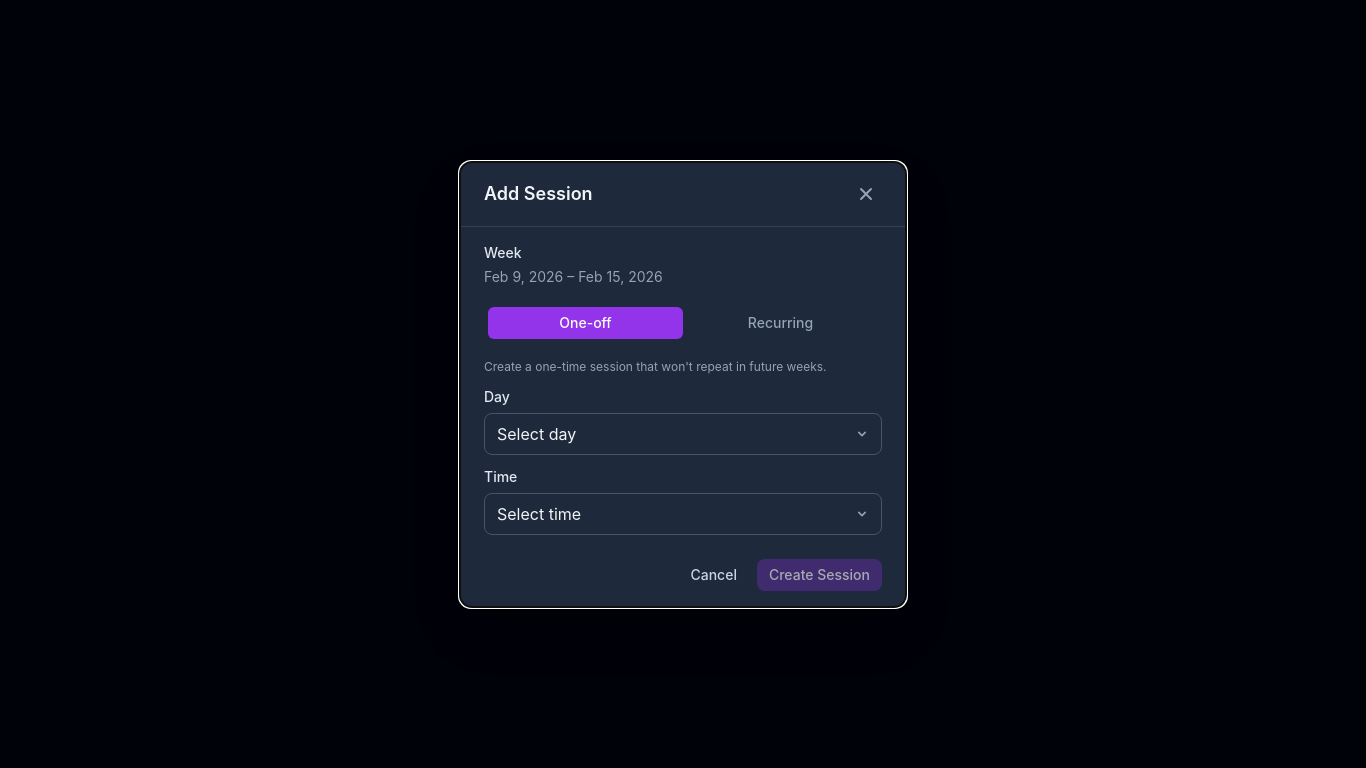
it: CreateSessionModal › Tab switching › switching from one-off to recurring resets form selections
// Select day and hour on one-off tab
Select "Monday" in the dropdown labelled "Day": {"x": 683, "y": 434} [484,412,882,454]
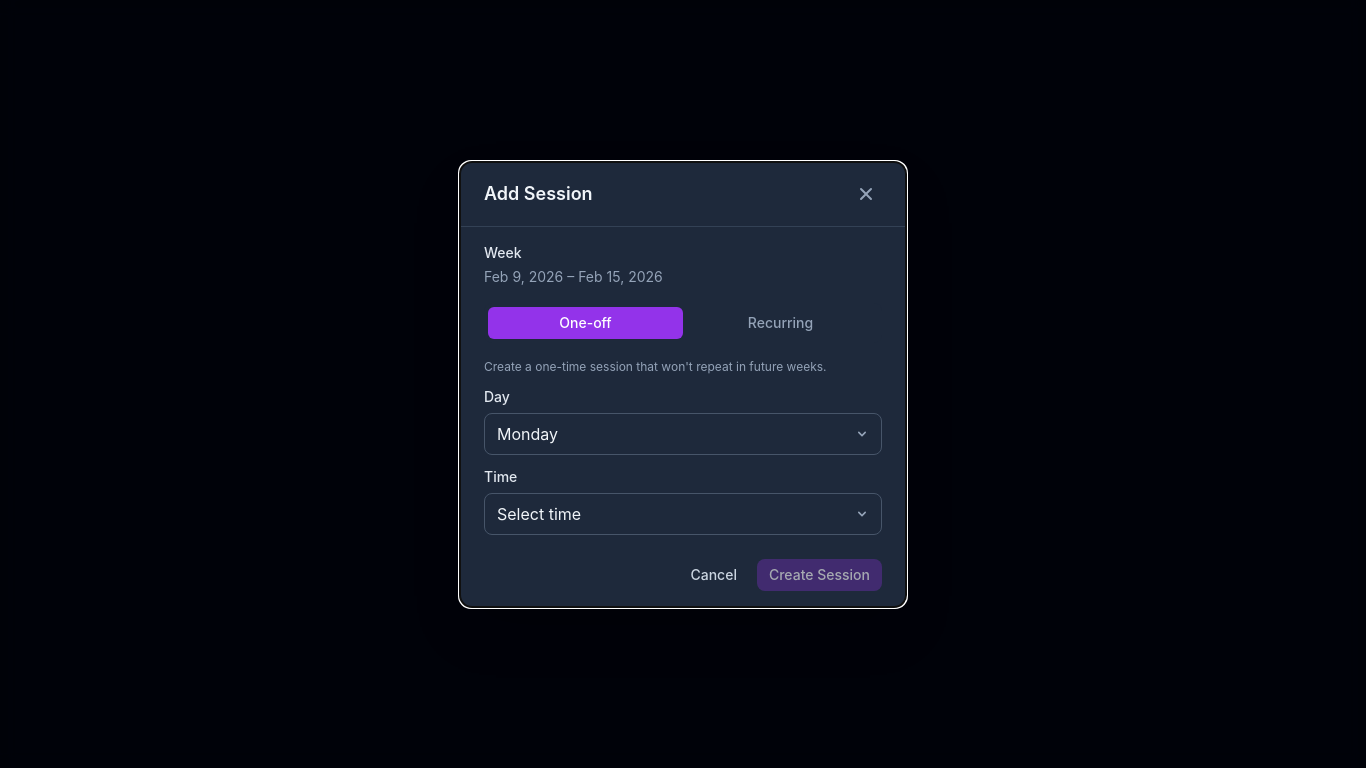
Select "09:00" in the dropdown labelled "Time": {"x": 683, "y": 514} [484,492,882,534]
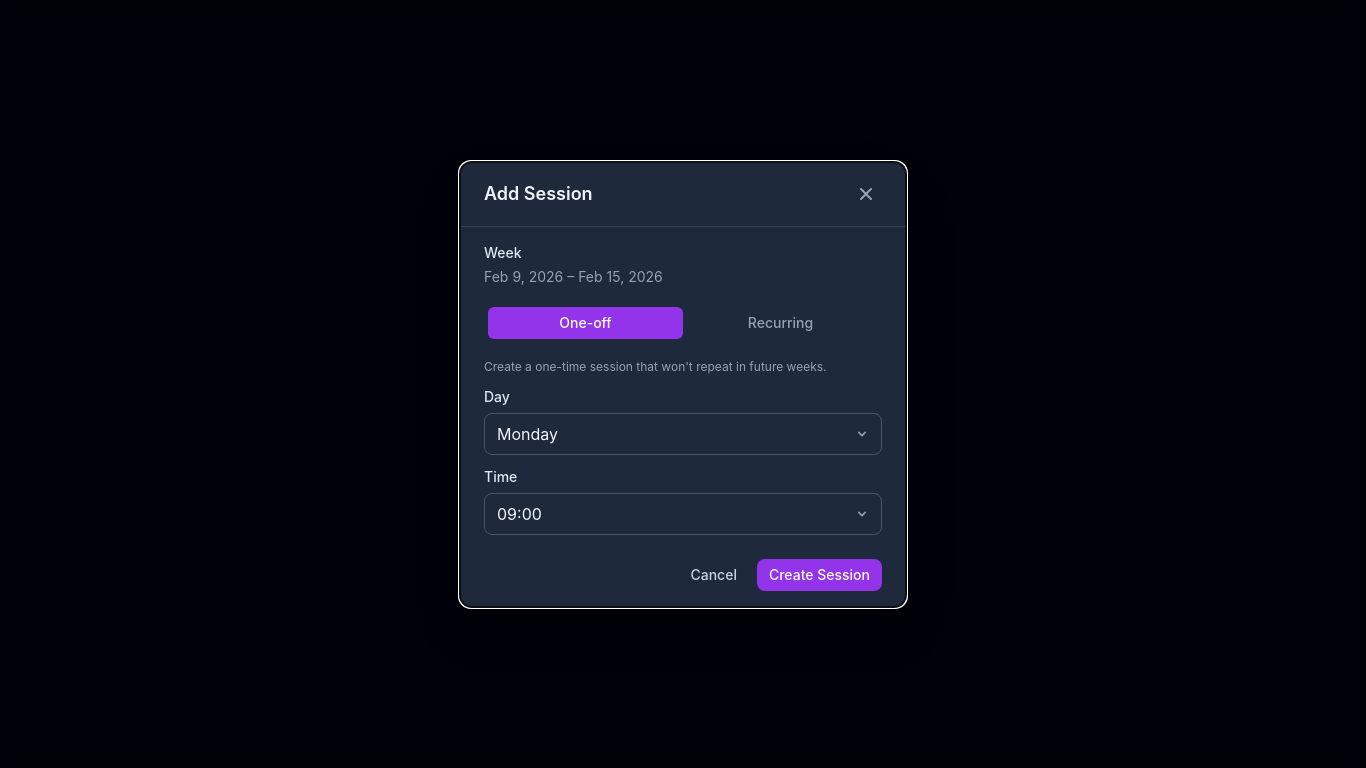
// Switch to recurring
Click the tab "Recurring": {"x": 780, "y": 322} [683,306,878,338]
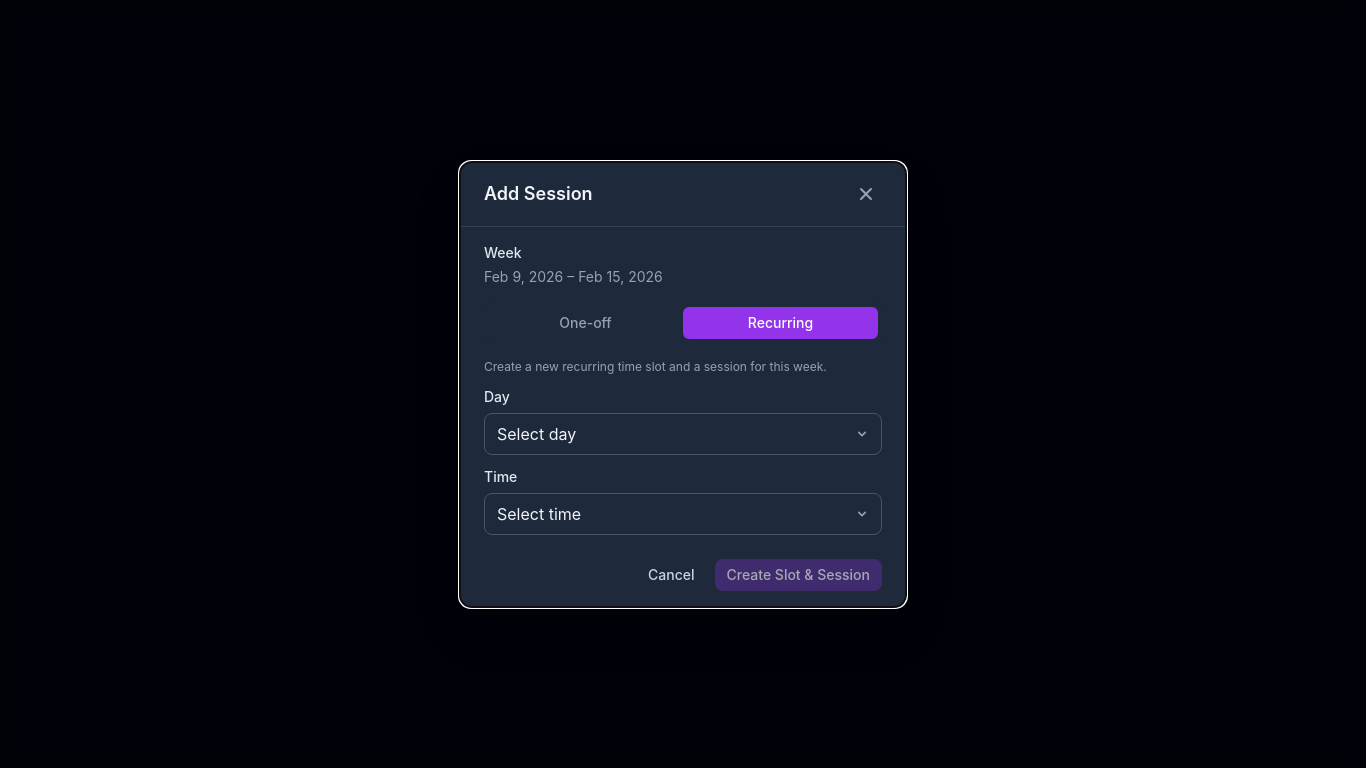
Expected: the dropdown labelled "Day" shows "Select day", [484,412,882,454]
Expected: the dropdown labelled "Time" shows "Select time", [484,492,882,534]
